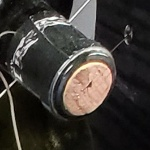bottle: (40, 32, 128, 131)
